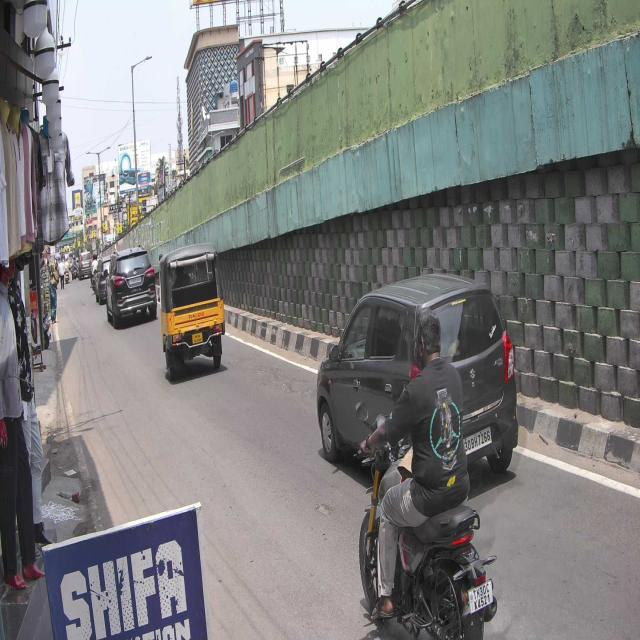single_rider: (353, 306, 500, 640)
